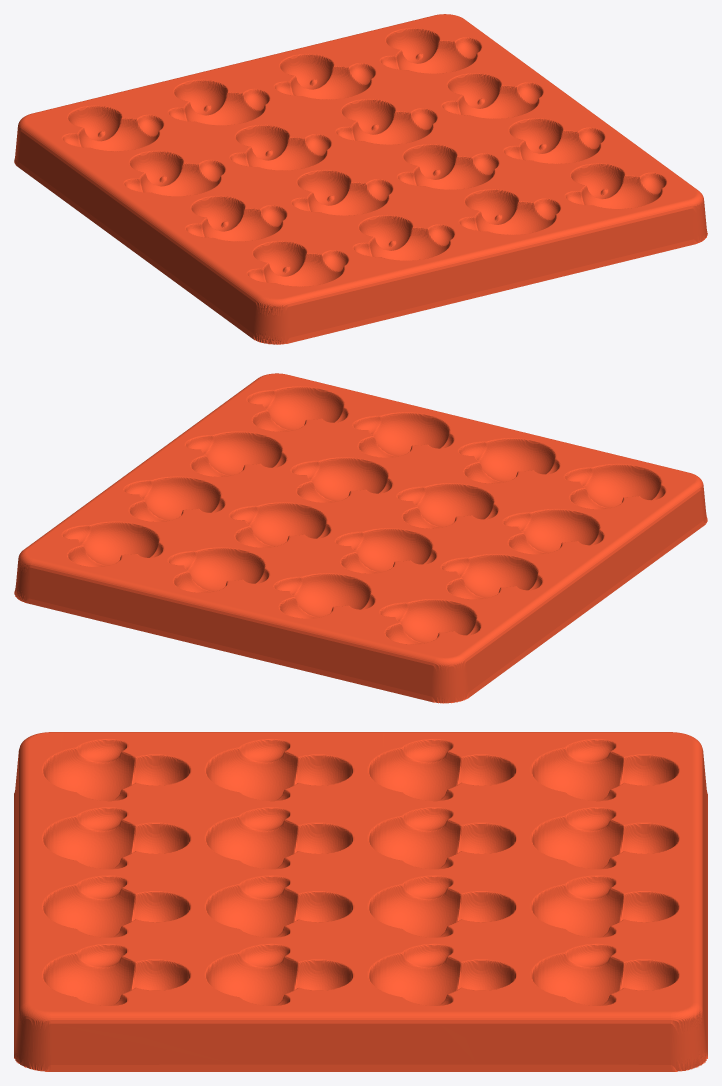
Rendered from mold.glb.
3 renders of one model, top to bottom at view 1: azimuth 30°, elevation 25°; view 2: azimuth 150°, elevation 25°; view 3: azimuth 270°, elevation 25°, orthographic. The views are drawn at different scales.
Parts seen in each view (by area): view 1: geometry_0; view 2: geometry_0; view 3: geometry_0.
Boxes of the visible parts, <box> form: geometry_0: <box>14,14,707,344</box>; geometry_0: <box>14,373,707,703</box>; geometry_0: <box>14,732,707,1071</box>.
Size of the model in its own units: 0.1668 by 0.0144 by 0.168.
